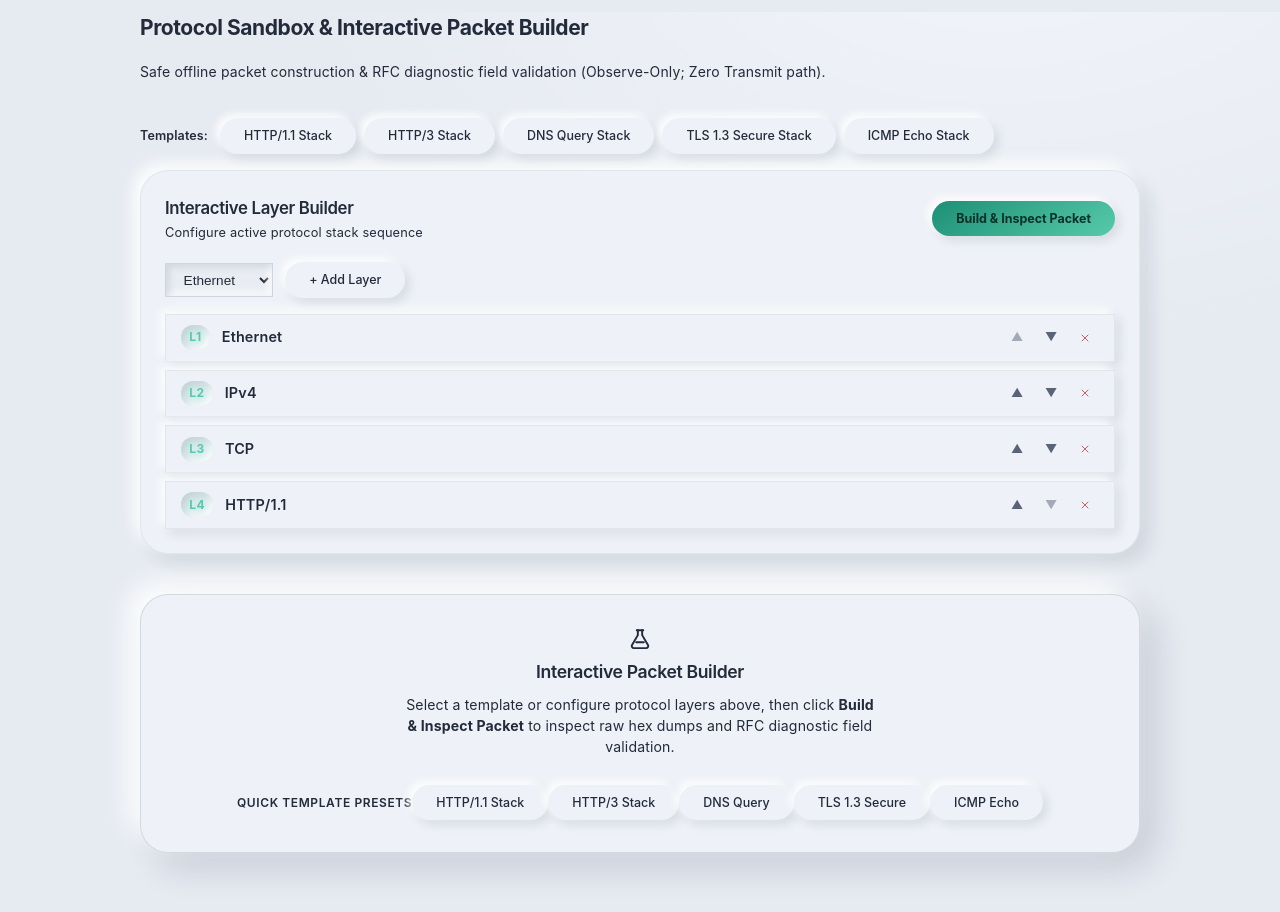
Scenario: ProtocolSandboxScreen & useSandboxController › Packet Output Integrity Regression Test: passes baseline fixture output unchanged to UI views
What coordinates should you click on to do the following:
click the button "Build & Inspect Packet"
I would click on:
 (1024, 218)
Its box is [932, 201, 1115, 236].
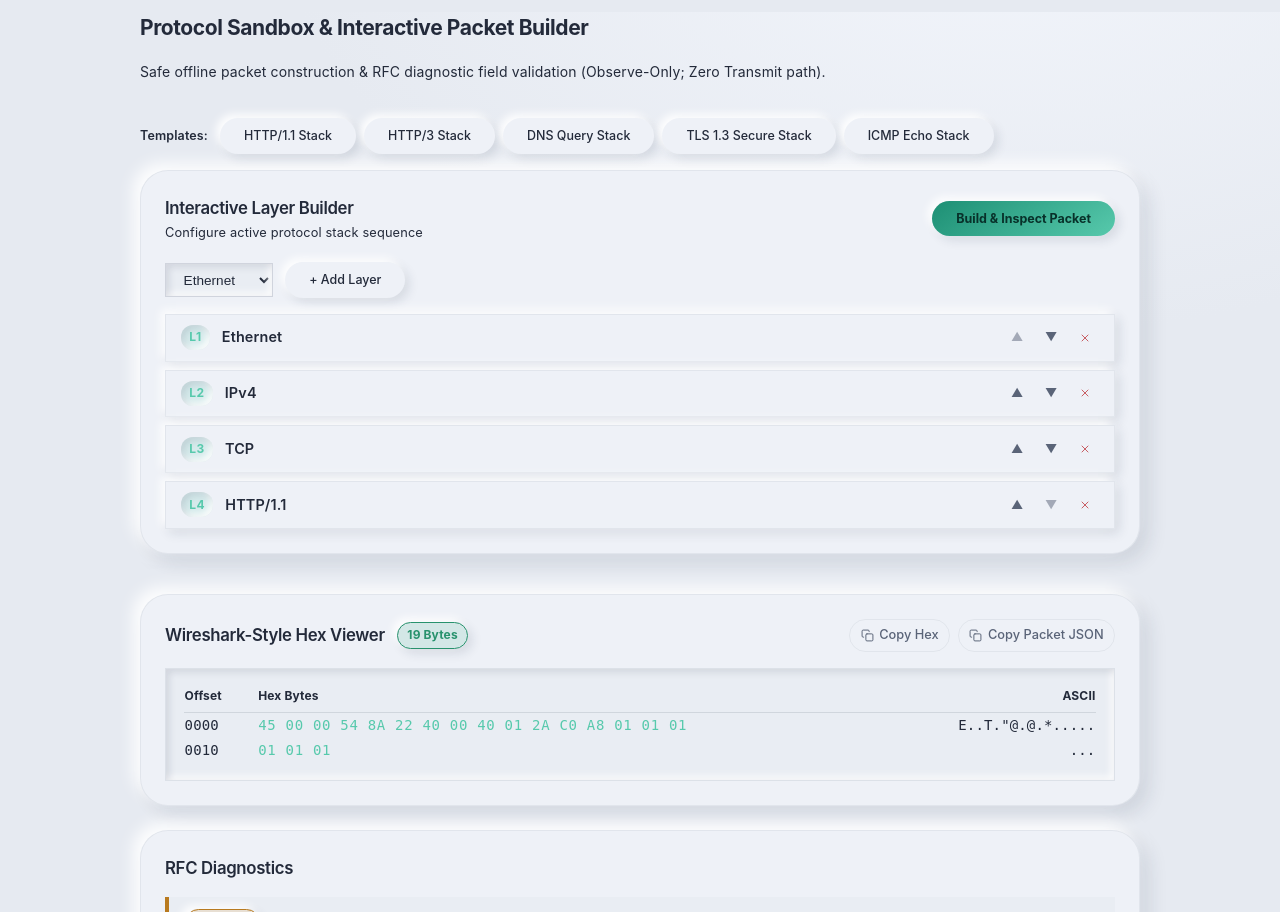
expect the heading "Wireshark-Style Hex Viewer" is shown: met, box [165, 622, 385, 648]
expect the heading "RFC Diagnostics" is shown: met, box [165, 858, 293, 878]
expect the text "19 Bytes" is shown: met, box [397, 622, 468, 649]
